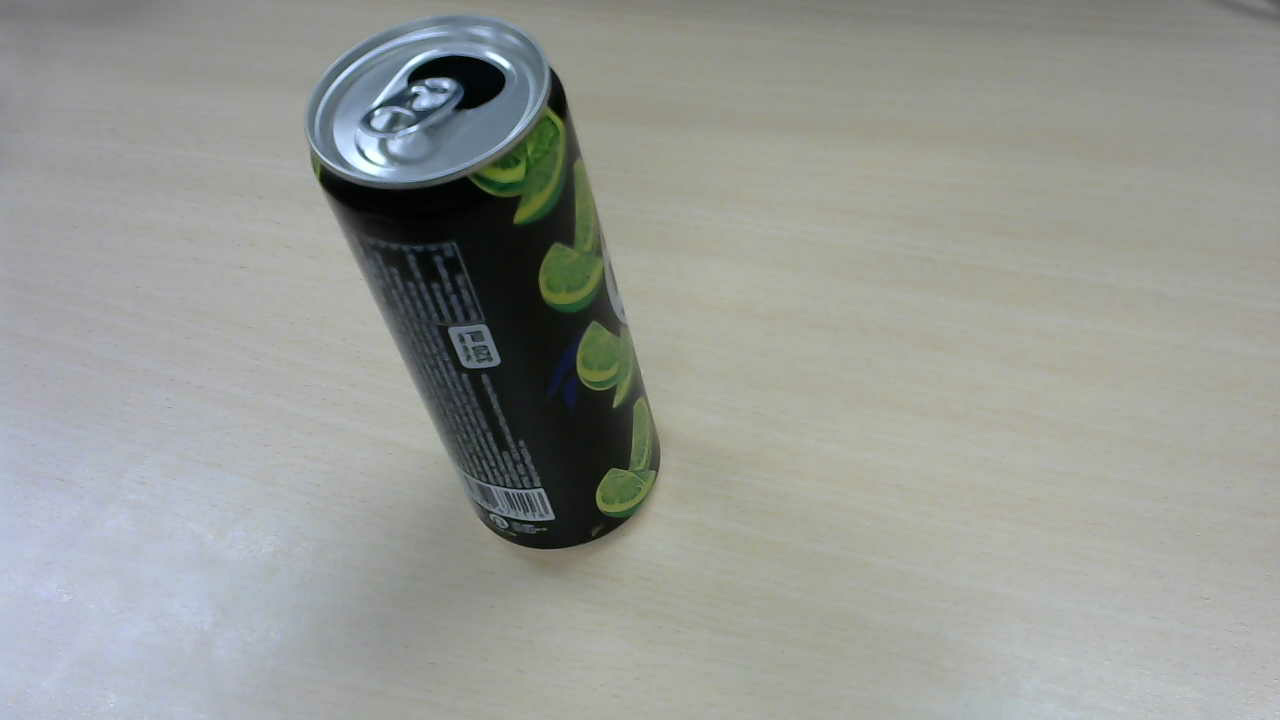Pepsi: (303, 16, 665, 555)
